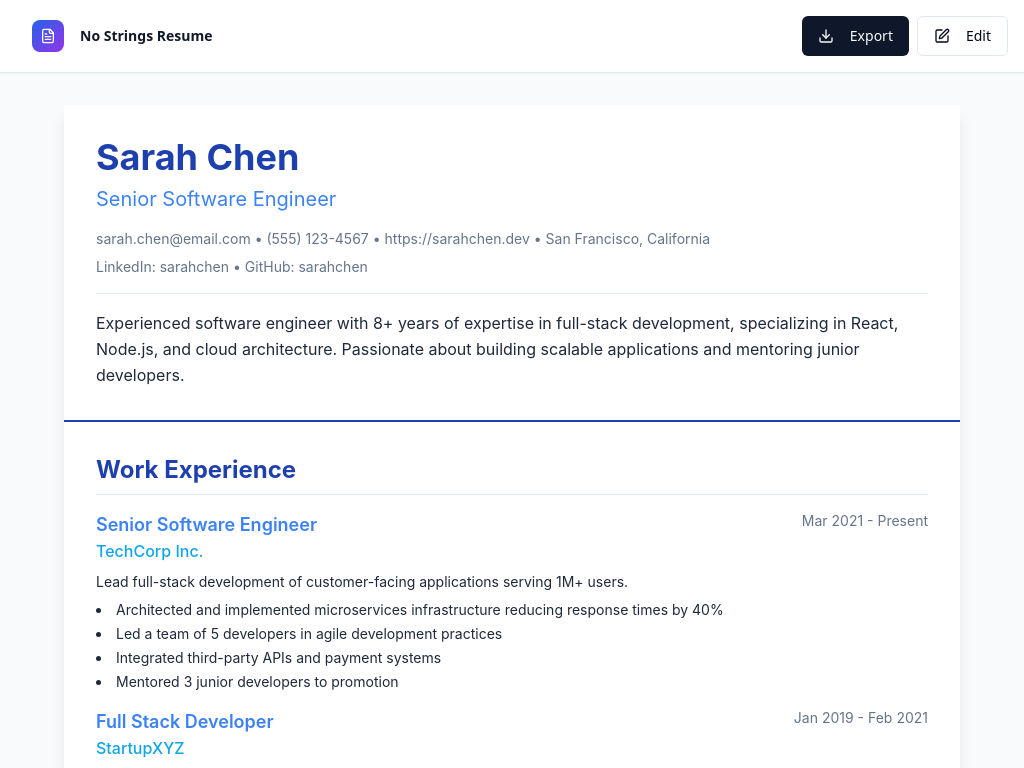
ResumeView › renders export menu items when dropdown is opened
Click the button with test id "view-export-button".
click(855, 36)  # box [802,16,909,56]
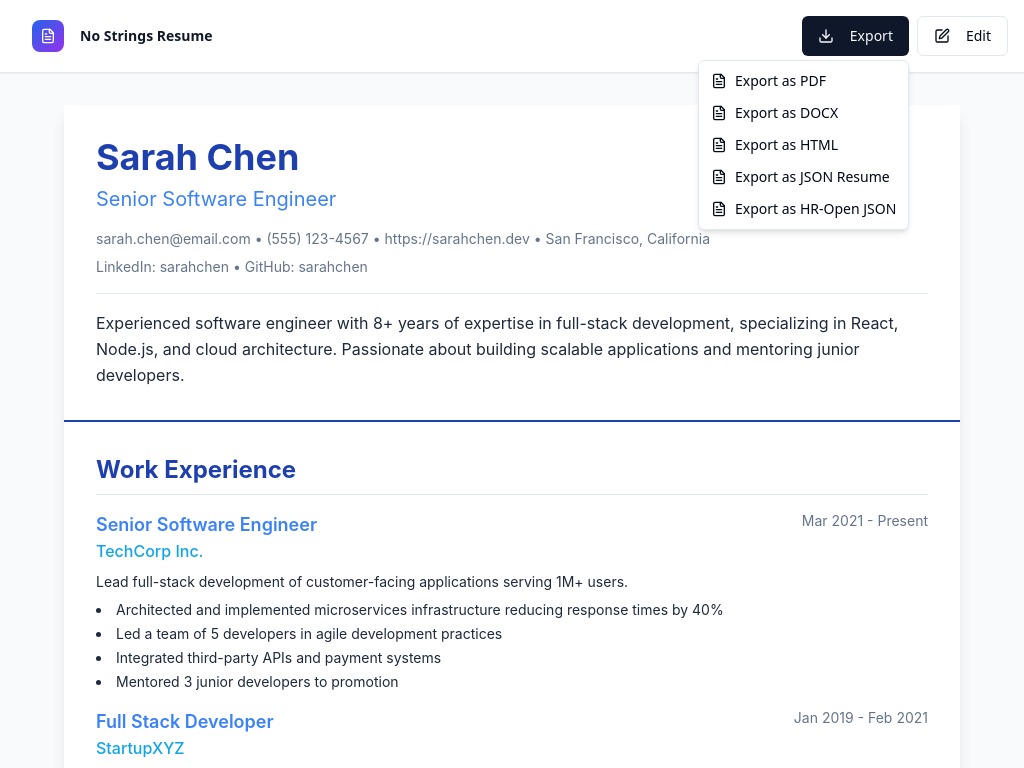
expect the menu item with test id "export-pdf-button" is shown: met, box [711,71,826,90]
expect the menu item with test id "export-json-button" is shown: met, box [711,167,890,186]
expect the menu item with test id "export-html-button" is shown: met, box [711,135,838,154]
